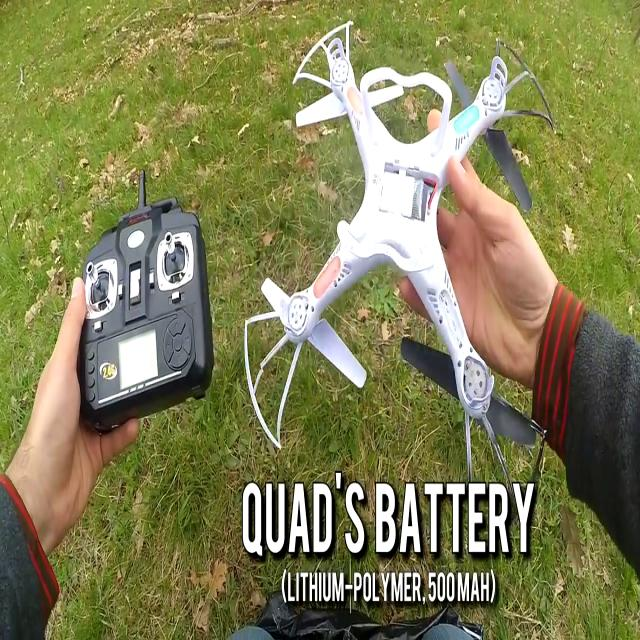drones: (235, 3, 553, 508)
